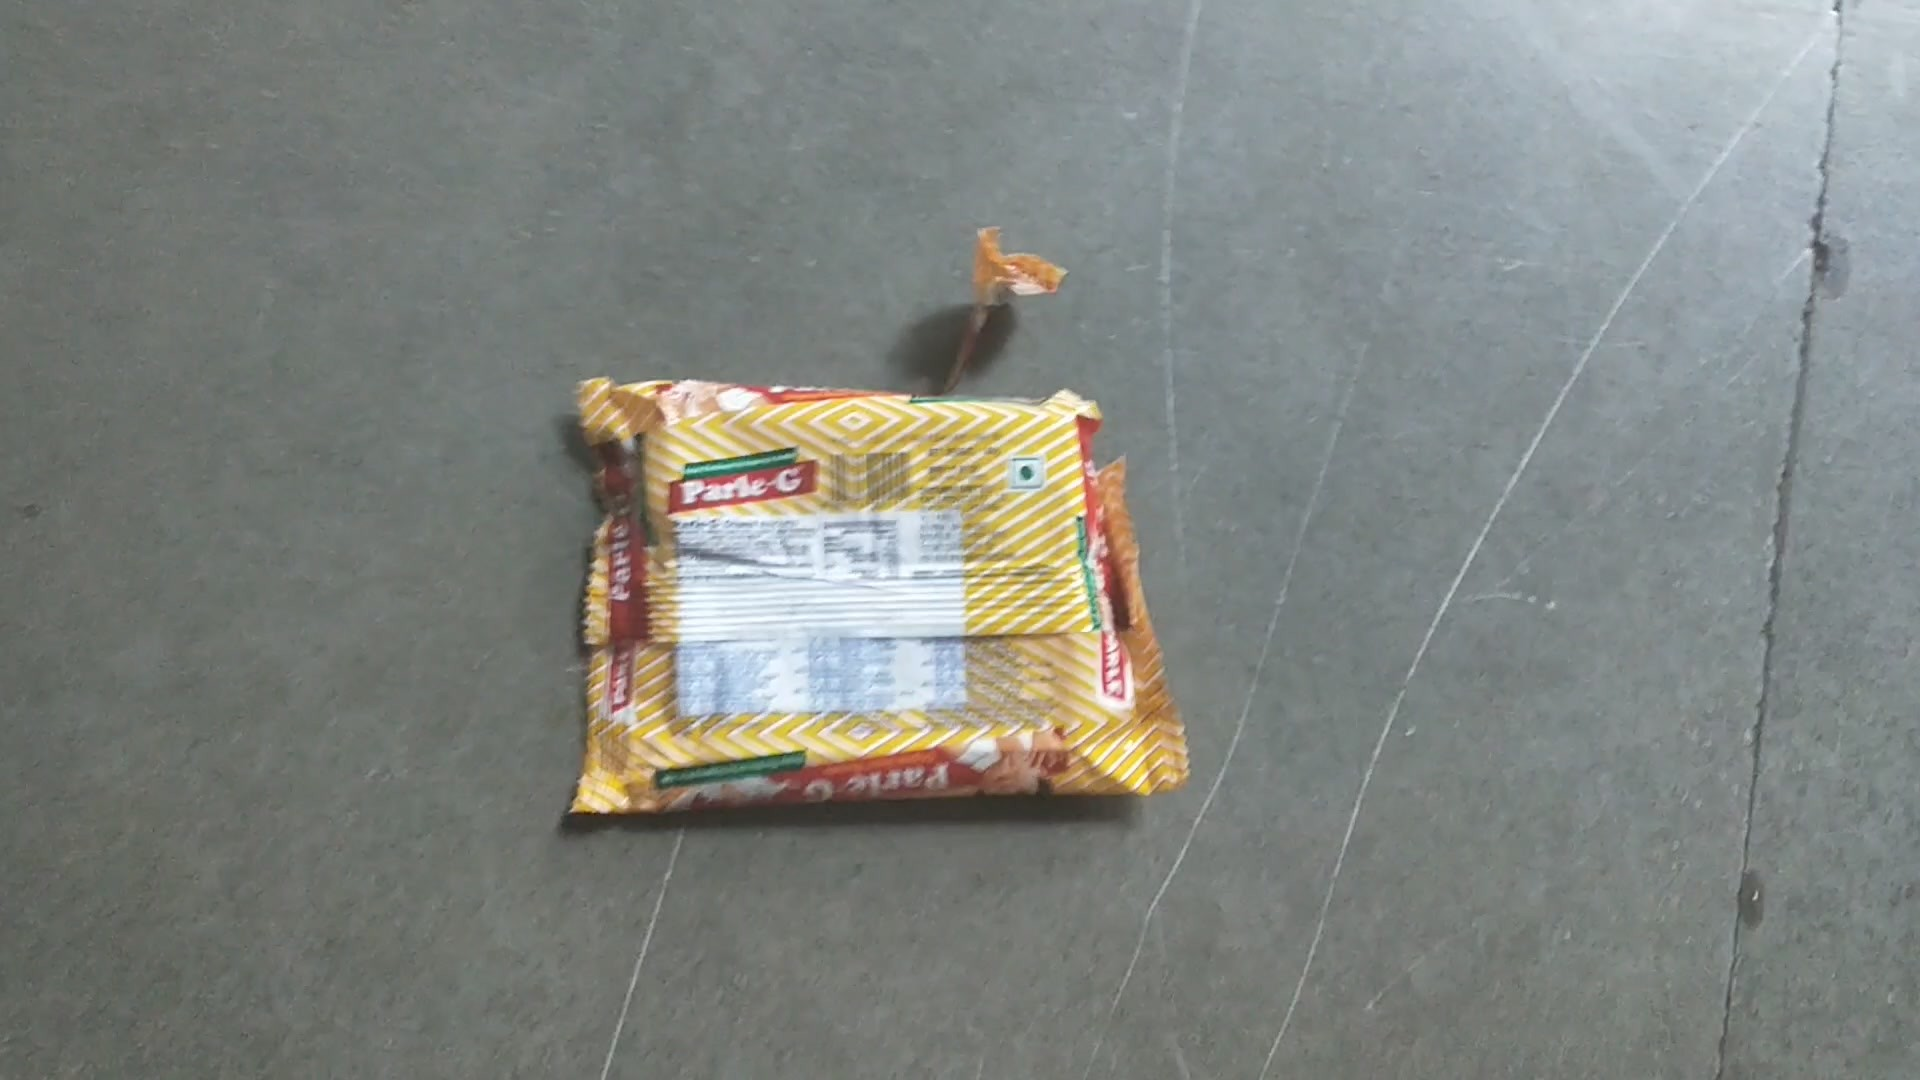parle-g-b: (622, 404, 1089, 779)
